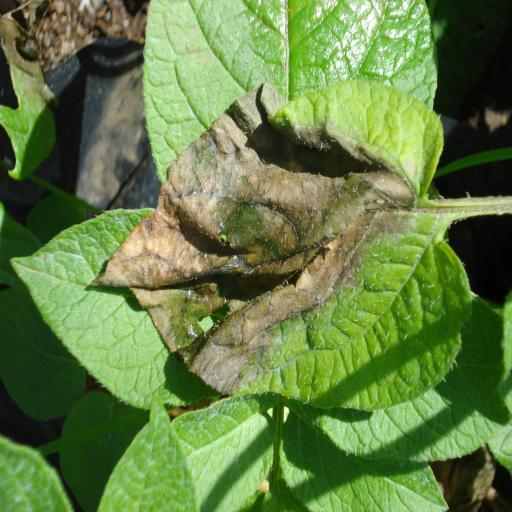disease_tomato: (86, 78, 476, 410)
